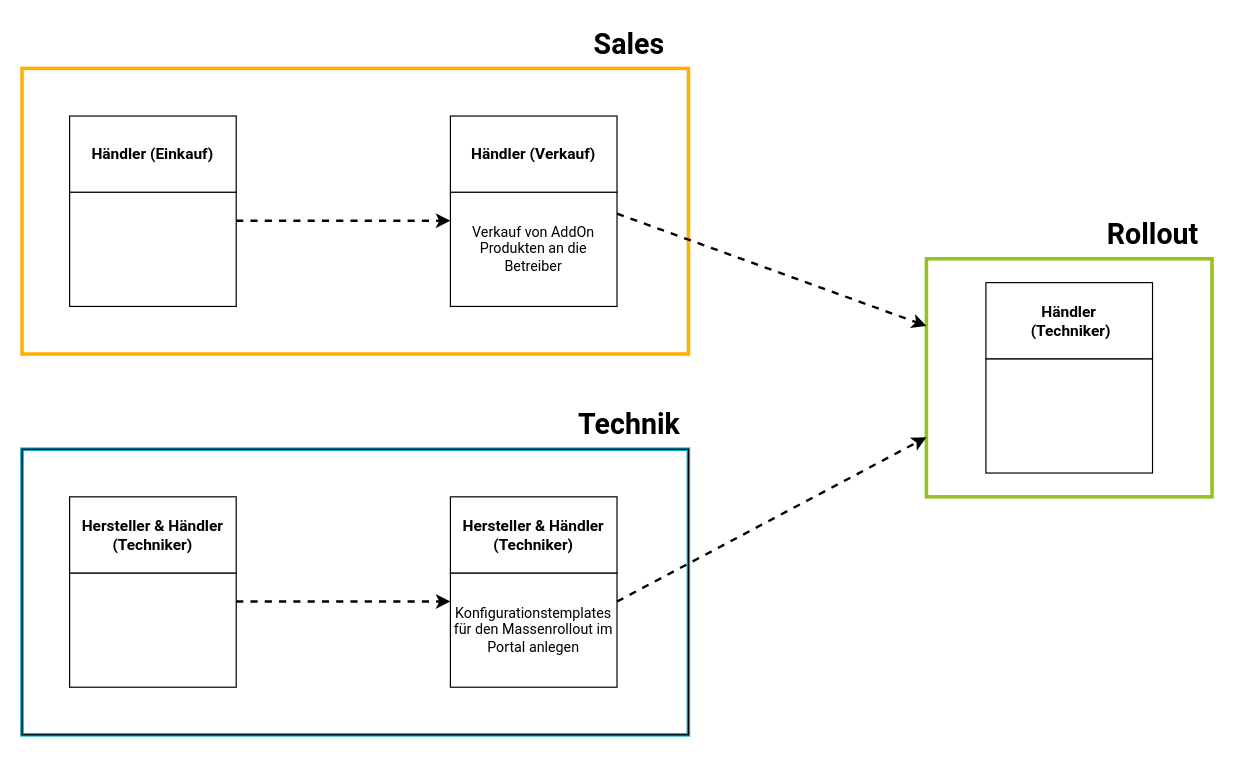
Image size: 1234x757. Some labels were removed from this diagram. The box of each missing label's shape, as (x1, y1, x2, y2) in pixels:
Besprechung der Rolloutszenarien und Konfiguration: (68, 572, 236, 687)
Einkauf von AddOn Entitlements aus dem ft.Shop: (68, 191, 236, 306)
Rollout vor Ort beim Betreiber mit Hilfe des ft.Portal (Template checkout): (985, 358, 1153, 473)
